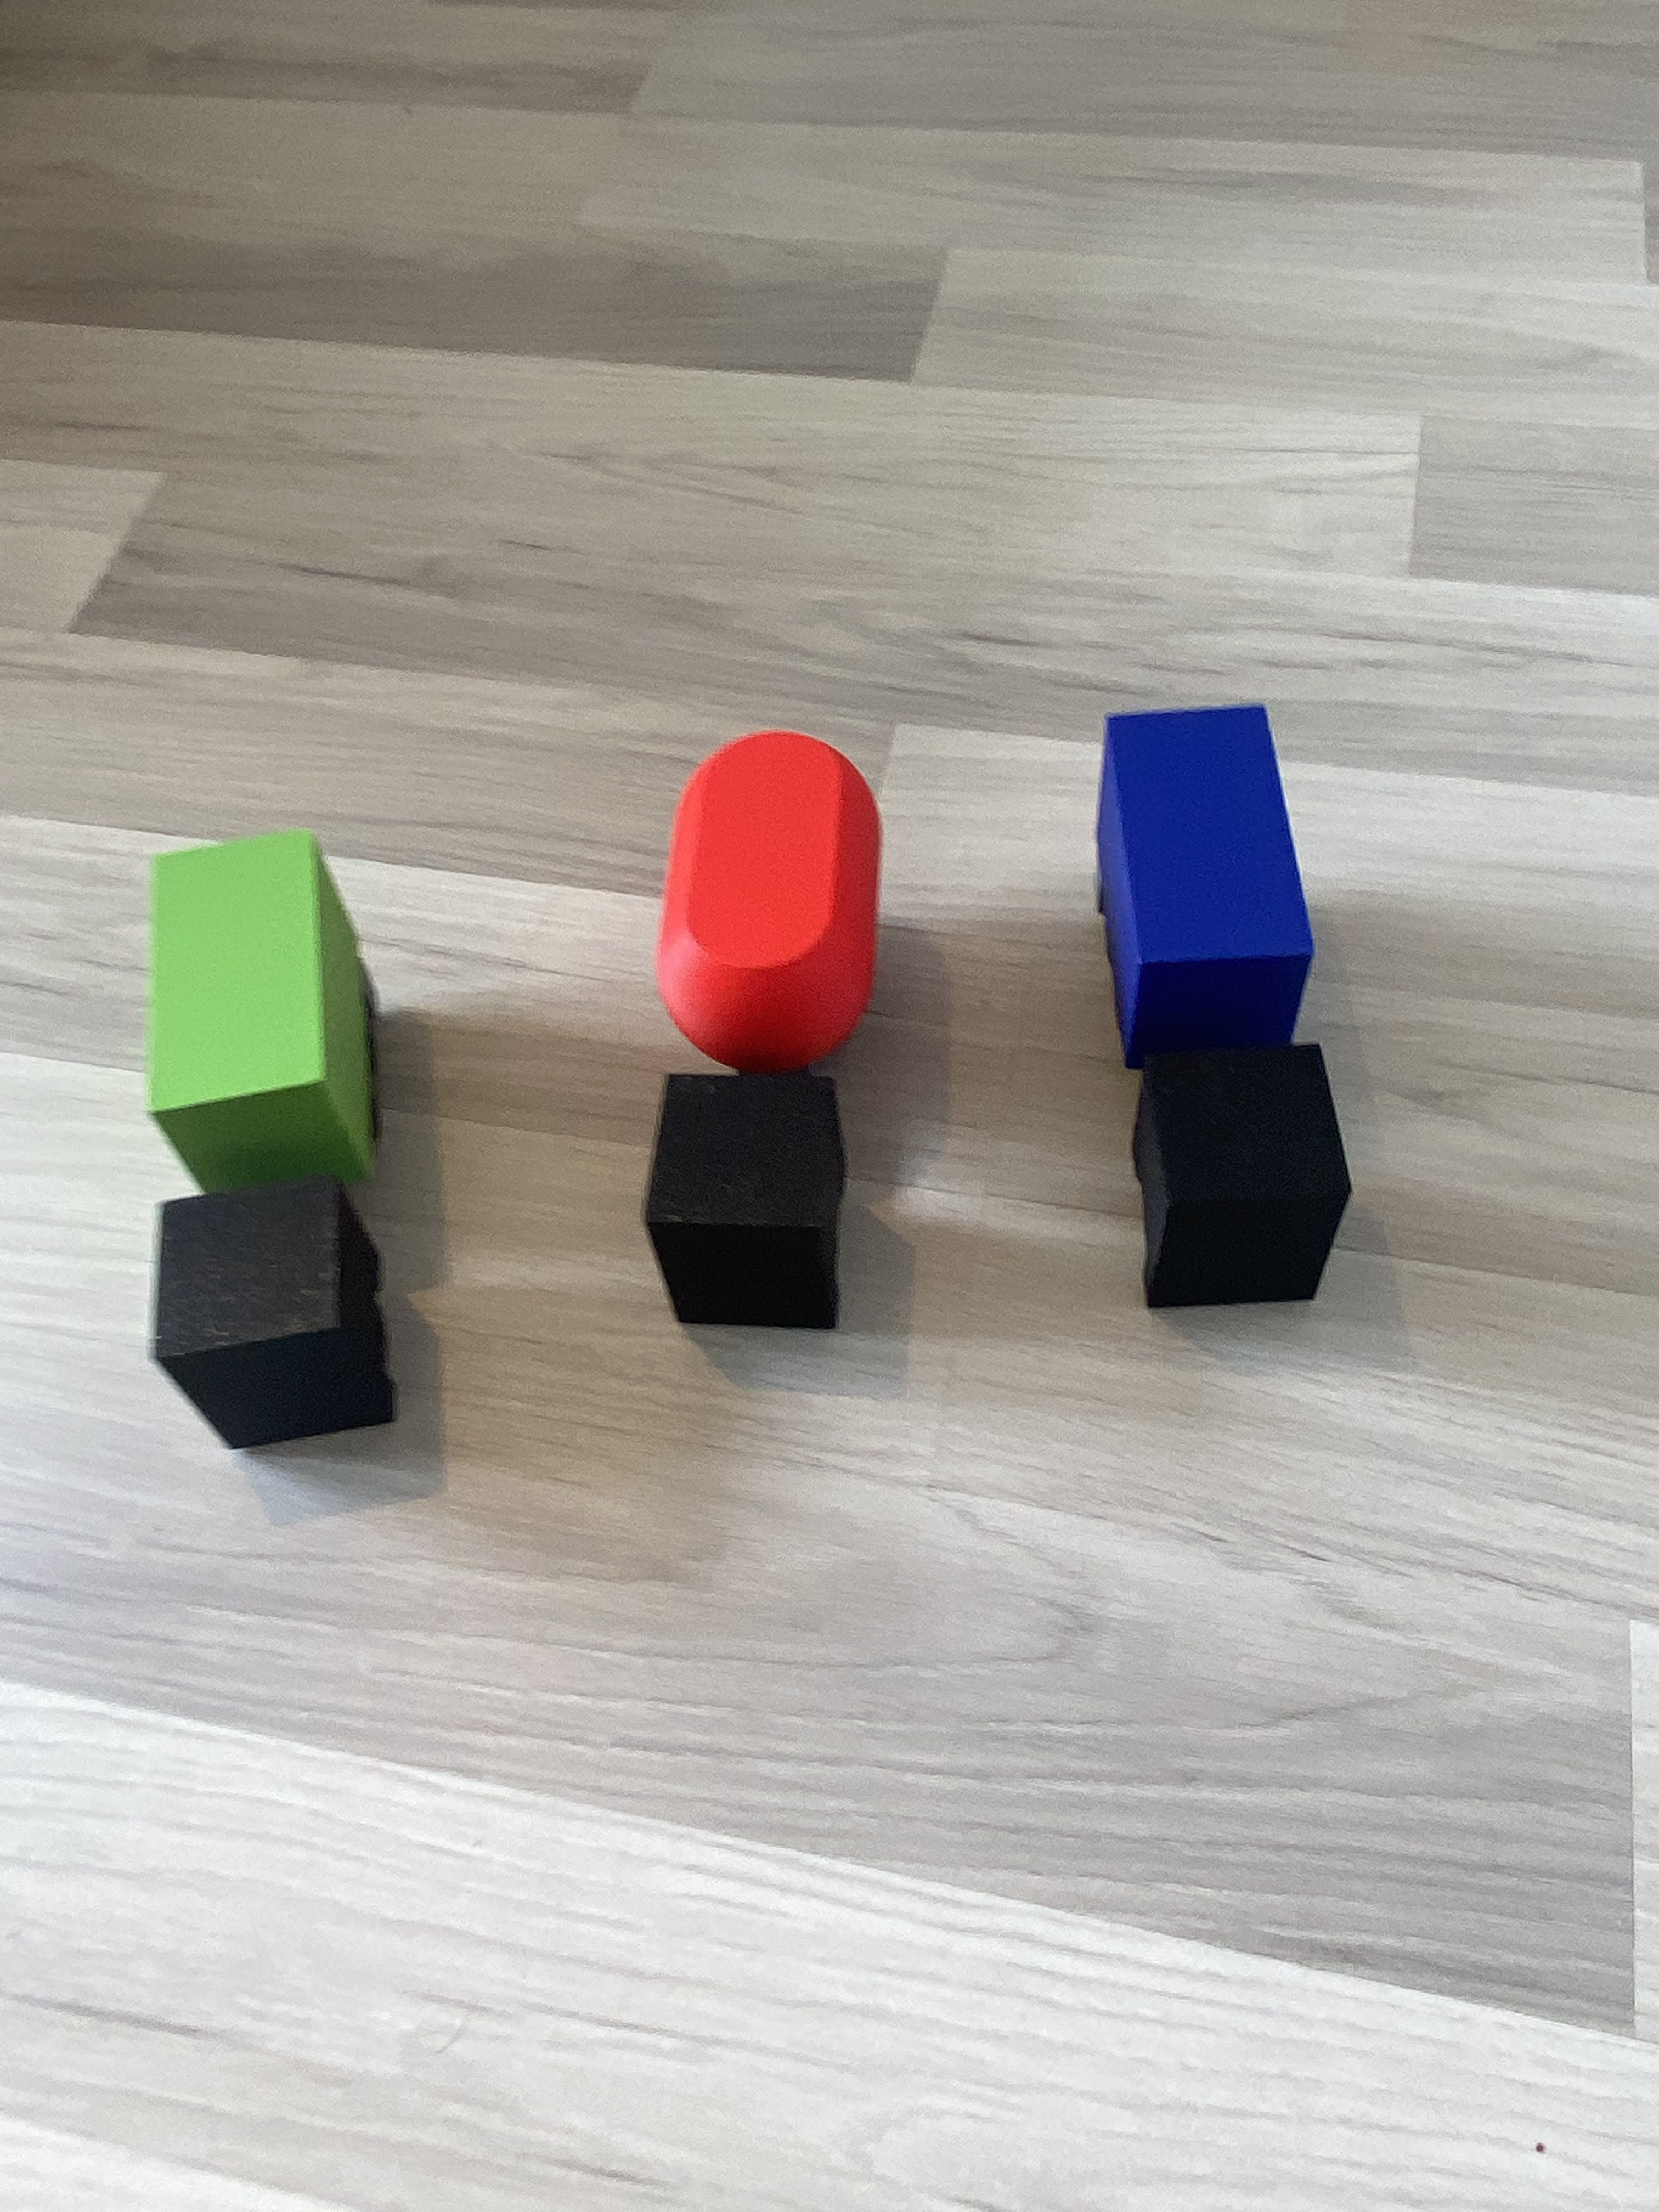blue_truck: (920, 897, 1542, 1116)
red_truck: (439, 937, 1066, 1143)
